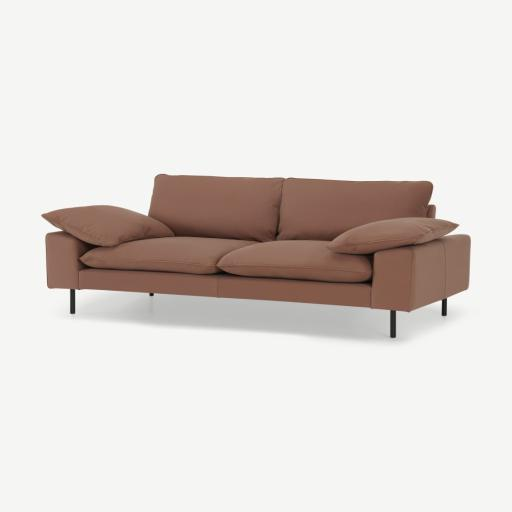back_cushion: (150, 175, 432, 242)
base: (76, 270, 370, 306)
left_arm: (372, 235, 470, 311)
legs: (390, 310, 396, 338), (70, 290, 75, 314), (442, 298, 447, 316), (149, 293, 154, 296)
right_arm: (46, 231, 93, 289)
seat_cushion: (84, 237, 372, 282)
two-seater: (0, 0, 511, 512)
